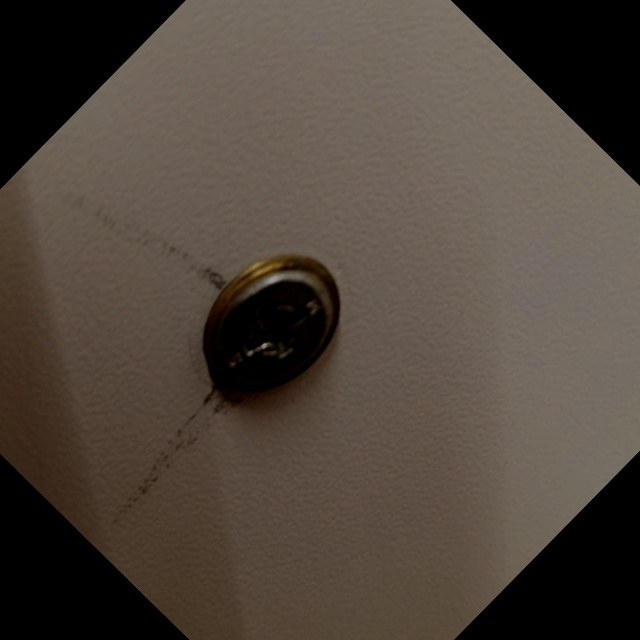phillips: (193, 245, 359, 411)
